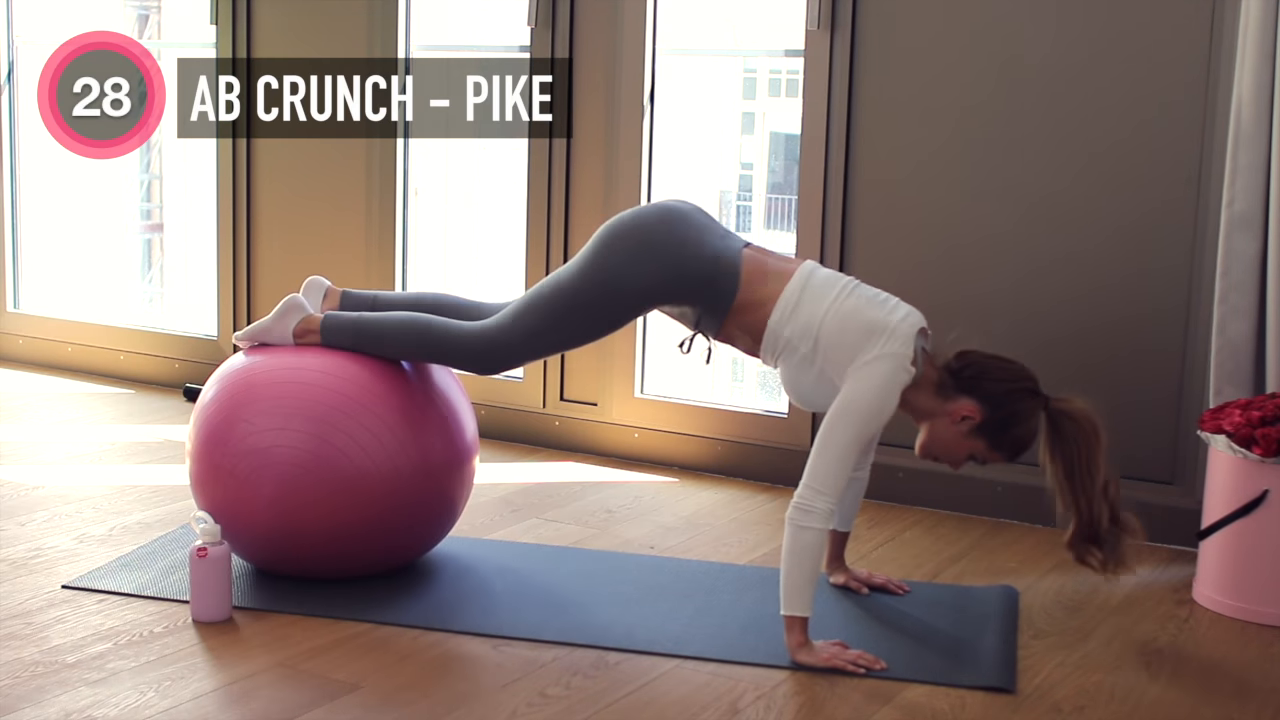yogaball: (178, 337, 494, 591)
